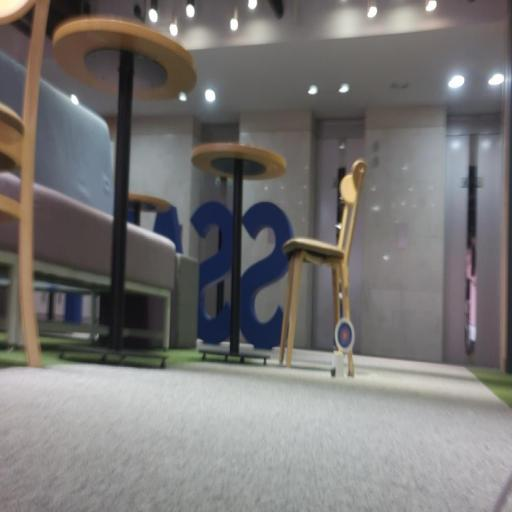target: (335, 319, 354, 353)
